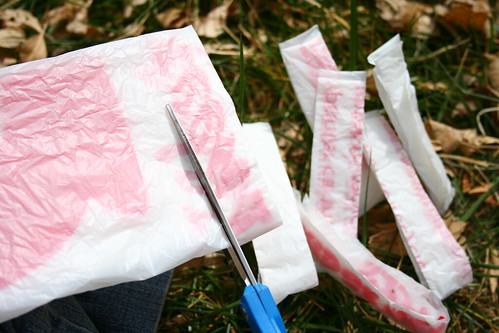plastic bag: (1, 23, 283, 320), (241, 23, 474, 333)
